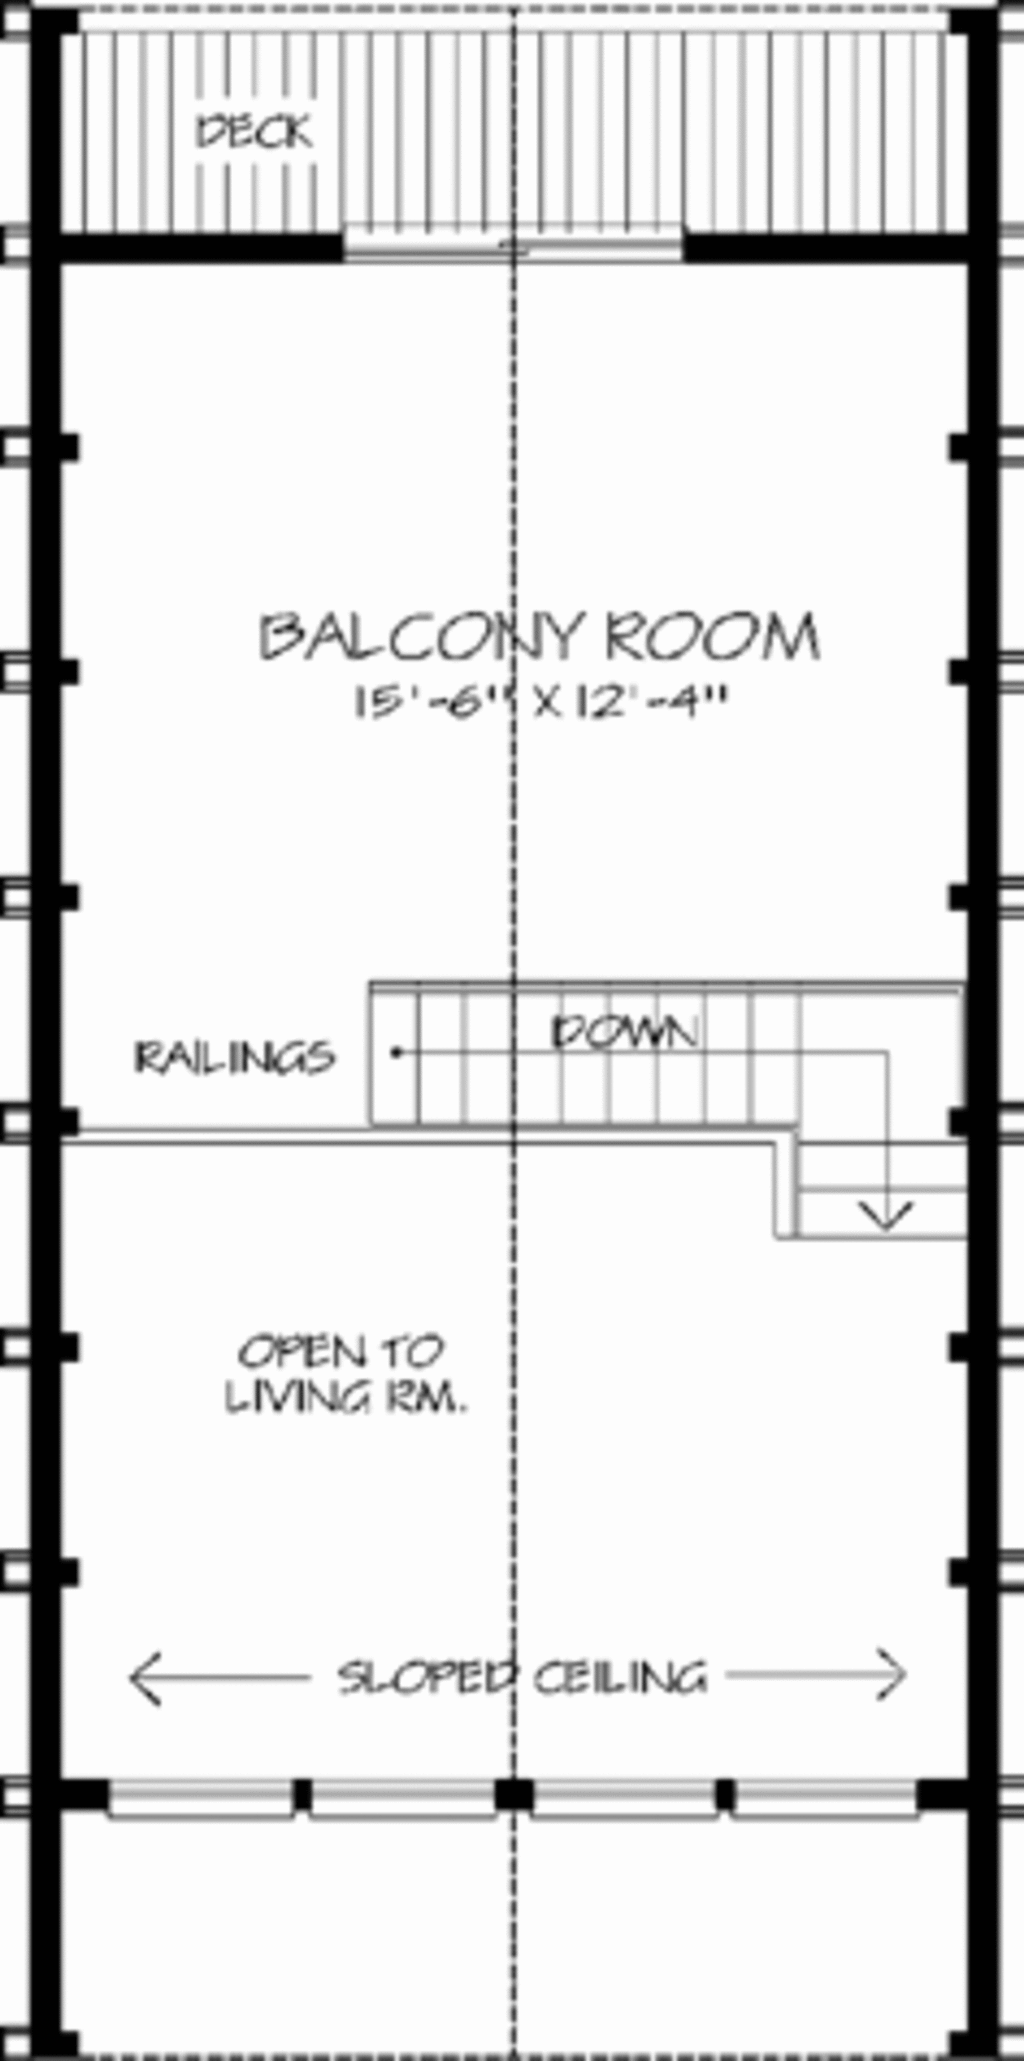stairs: (339, 960, 981, 1262)
window: (313, 191, 705, 272), (300, 1769, 736, 1820), (739, 1769, 952, 1840), (88, 1769, 313, 1834)
